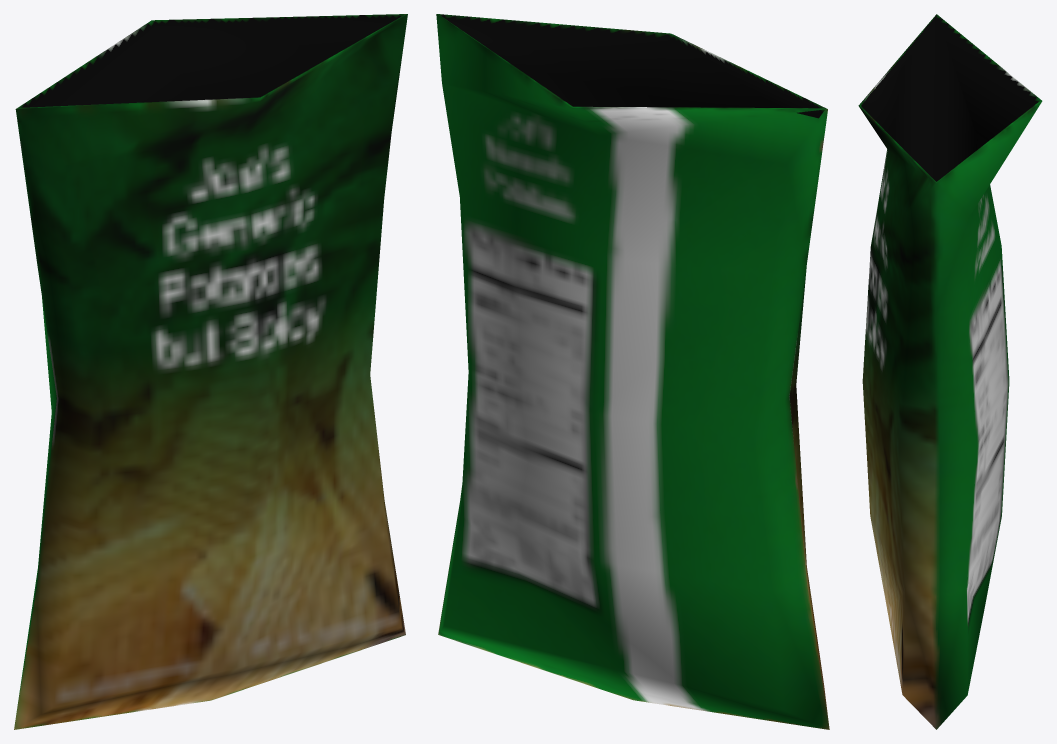
Rendered from chips.glb.
3 views of the same model, side by side, from view 1: azimuth 30°, elevation 25°; view 2: azimuth 150°, elevation 25°; view 3: azimuth 270°, elevation 25° (orthographic). The views are drawn at different scales.
Visible parts, largest first — view 1: Medium_Open_C; view 2: Medium_Open_C; view 3: Medium_Open_C.
Part boxes in pixels (bbox=[...]): Medium_Open_C: bbox=[14, 14, 407, 729]; Medium_Open_C: bbox=[436, 14, 829, 729]; Medium_Open_C: bbox=[858, 14, 1042, 729].
Size of the model in its own units: 1.98 by 3.07 by 0.909.
1 material, 1 textured.
